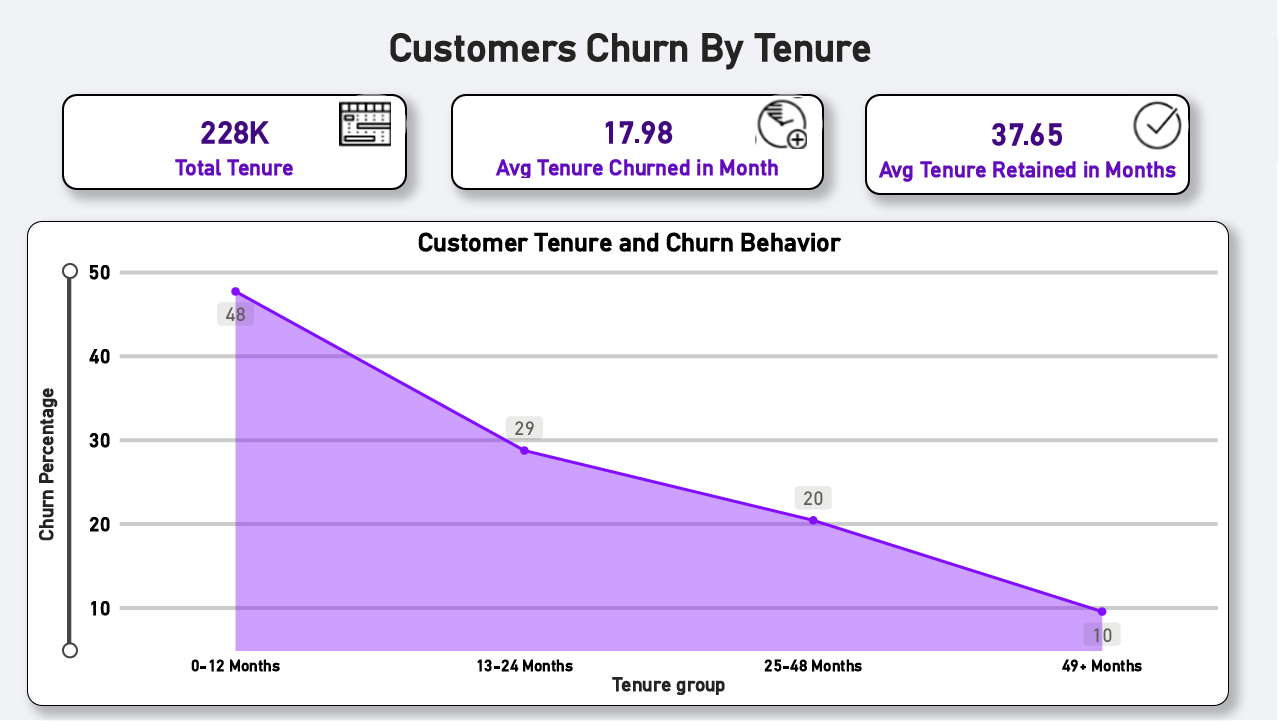

What the dashboard file says about the page in this screenshot:
{"tool":"powerbi","page":{"name":"Customer value (Tenure)","canvas":[1280,720],"ordinal":5},"visuals":[{"type":"card","fields":{"Values":["Sum(telco.tenure)"]},"box":[64,93.2,345,96],"z":0},{"type":"lineChart","title":"Customer Tenure and Churn Behavior","fields":{"Category":["Query14.tenure_group"],"Y":["Sum(Query14.Churn_percentage)"]},"box":[29.2,219.8,1202.1,485.6],"z":1000},{"type":"card","fields":{"Values":["Query1.Avg_tenure_Churned"]},"box":[452.8,93.3,373.2,95.8],"z":2000},{"type":"card","fields":{"Values":["Query1.Avg_tenure_Retained"]},"box":[867,93.3,324.7,100.8],"z":3000},{"type":"textbox","box":[327.2,18.7,610.8,58.5],"z":4000},{"type":"actionButton","box":[338.1,93.2,71,59.8],"z":5000},{"type":"actionButton","box":[754.1,93.2,71,59.8],"z":6000},{"type":"actionButton","box":[1129.7,94.6,61.2,59.8],"z":7000}]}

Visuals, with their boxes in screenshot pixels (x1, y1, x2, y2), scaled from the page's 1280x720 canvas onto the 1282x728 screenshot:
card - Sum(telco.tenure): (left=64, top=94, right=410, bottom=191)
"Customer Tenure and Churn Behavior" lineChart: (left=29, top=222, right=1233, bottom=713)
card - Query1.Avg_tenure_Churned: (left=454, top=94, right=827, bottom=191)
card - Query1.Avg_tenure_Retained: (left=868, top=94, right=1194, bottom=196)
textbox: (left=328, top=19, right=939, bottom=78)
actionButton: (left=339, top=94, right=410, bottom=155)
actionButton: (left=755, top=94, right=826, bottom=155)
actionButton: (left=1131, top=96, right=1193, bottom=156)
